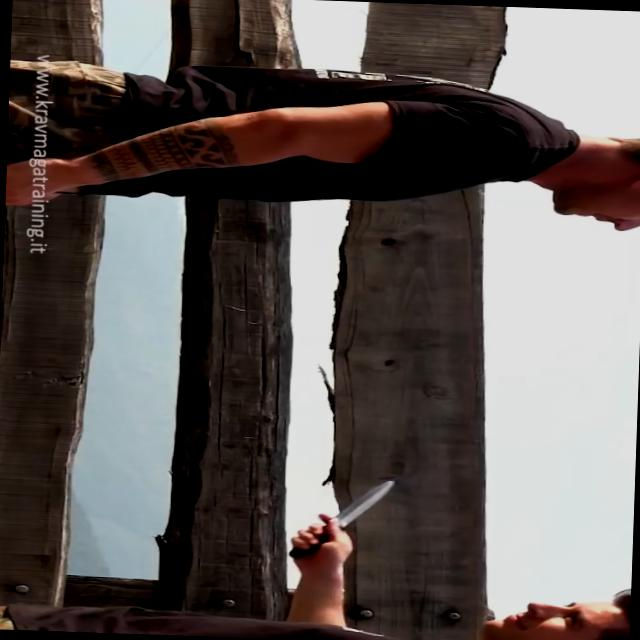knife: (279, 470, 404, 568)
